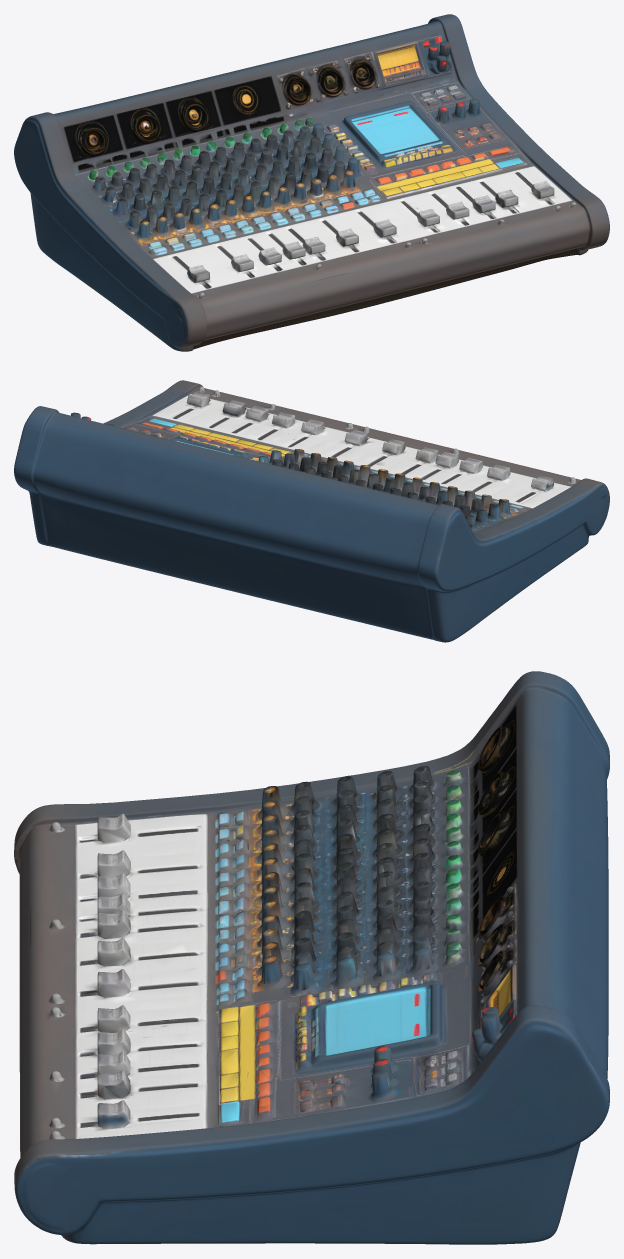
Rendered from soundequipment.glb.
The picture shows the model from 3 angles, top to bottom: view 1: azimuth 30°, elevation 25°; view 2: azimuth 150°, elevation 25°; view 3: azimuth 270°, elevation 25°; orthographic projection. The views are drawn at different scales.
Parts seen in each view (by area): view 1: node_0; view 2: node_0; view 3: node_0.
Part boxes in pixels (x1,y1,x2,y2): node_0: (14,14,609,351); node_0: (14,380,609,642); node_0: (14,671,609,1244).
Bounding box in the file's own units: 0.9743 × 0.2977 × 0.6961.
1 material, 1 textured.
